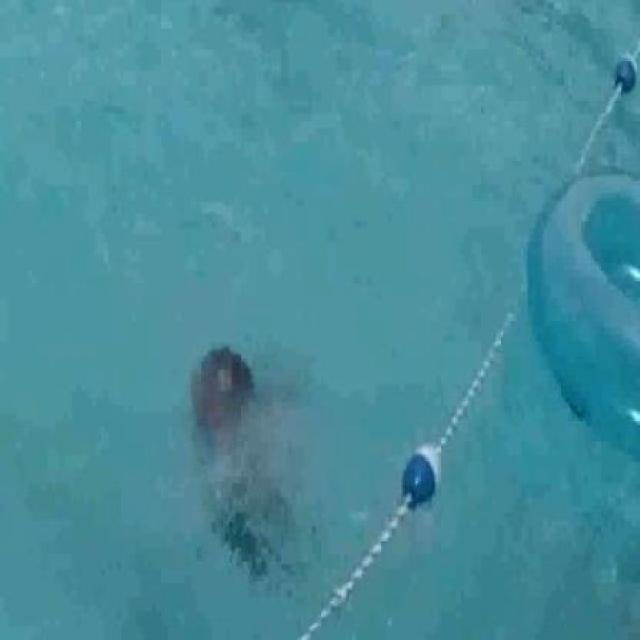drowning: (171, 359, 332, 579)
